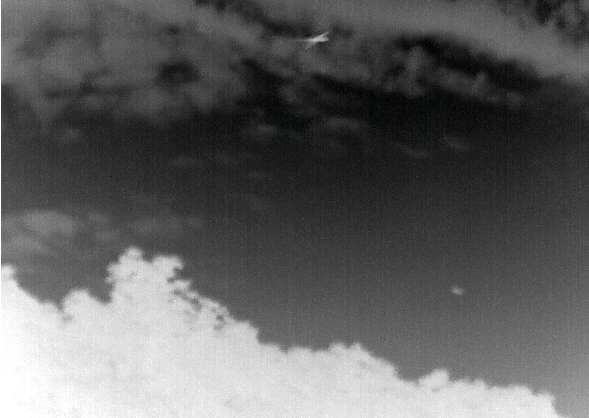dim target: (449, 285, 464, 296)
